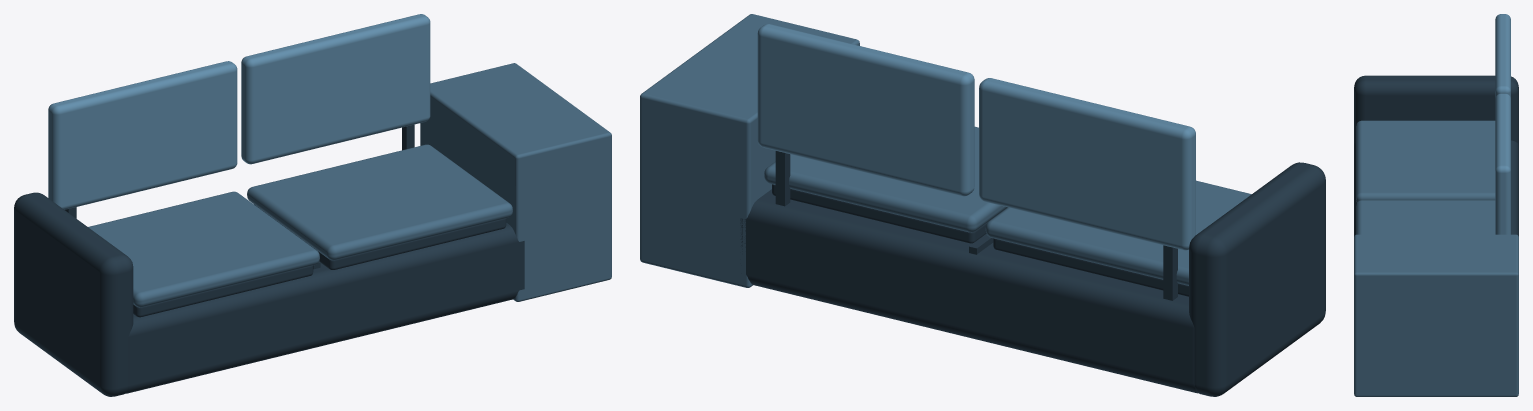
The picture shows the model from 3 angles, left to right: view 1: azimuth 30°, elevation 25°; view 2: azimuth 150°, elevation 25°; view 3: azimuth 270°, elevation 25°; orthographic projection. The views are drawn at different scales.
Parts seen in each view (by area): view 1: modular-plinth, textile-rest-arm, back-right, back-left, seat-right, modular-arm-left, seat-left, seat-support-right, seat-support-left; view 2: modular-plinth, back-right, back-left, textile-rest-arm, modular-arm-left, seat-left, seat-right, seat-support-right, seat-support-left, back-support-right, back-support-left; view 3: textile-rest-arm, seat-left, modular-arm-left, seat-right, back-right, back-left, modular-plinth.
Part boxes in pixels (bbox=[...]): modular-plinth: bbox=[125, 223, 524, 393]; textile-rest-arm: bbox=[420, 63, 611, 301]; back-right: bbox=[241, 14, 430, 164]; back-left: bbox=[48, 61, 237, 209]; seat-right: bbox=[247, 144, 512, 260]; modular-arm-left: bbox=[14, 192, 133, 396]; seat-left: bbox=[88, 191, 319, 307]; seat-support-right: bbox=[254, 204, 506, 269]; seat-support-left: bbox=[133, 265, 313, 317]; modular-plinth: bbox=[740, 189, 1197, 393]; back-right: bbox=[757, 24, 974, 196]; back-left: bbox=[979, 78, 1195, 250]; textile-rest-arm: bbox=[640, 14, 859, 287]; modular-arm-left: bbox=[1189, 162, 1325, 396]; seat-left: bbox=[985, 180, 1251, 285]; seat-right: bbox=[764, 126, 1007, 232]; seat-support-right: bbox=[772, 184, 1007, 243]; seat-support-left: bbox=[993, 238, 1188, 296]; back-support-right: bbox=[775, 151, 790, 206]; back-support-left: bbox=[1163, 245, 1177, 300]; textile-rest-arm: bbox=[1354, 234, 1518, 396]; seat-left: bbox=[1356, 120, 1495, 202]; modular-arm-left: bbox=[1354, 75, 1518, 146]; seat-right: bbox=[1356, 200, 1495, 234]; back-right: bbox=[1495, 93, 1510, 234]; back-left: bbox=[1495, 14, 1510, 98]; modular-plinth: bbox=[1354, 140, 1518, 236].
Bounding box in the file's own units: 2.52 × 1.07 × 0.84.
